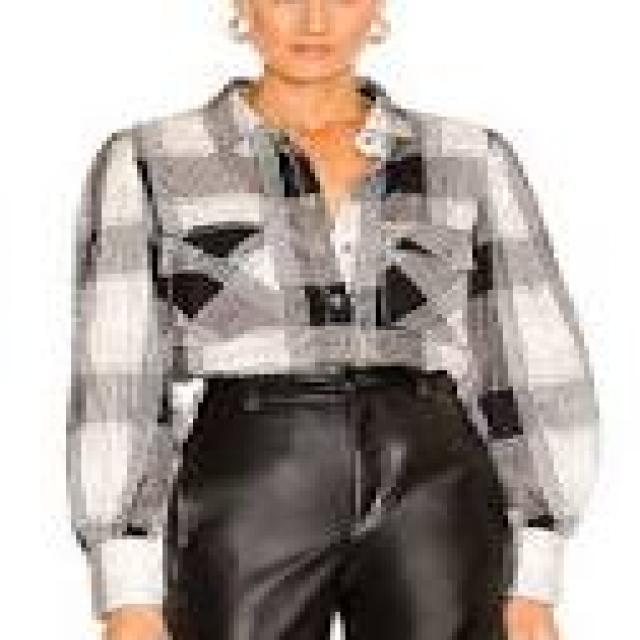plaid: (74, 69, 586, 384)
